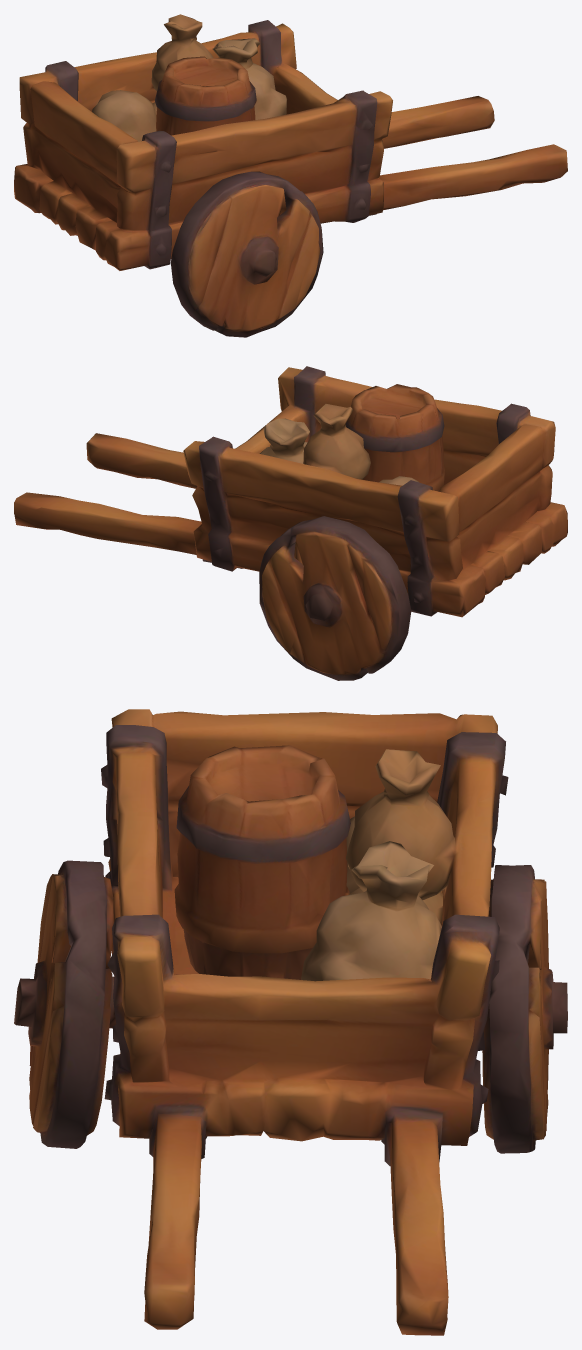
The model's file is pro_cart-BDv5Q6WR.glb.
The picture shows the model from 3 angles, top to bottom: view 1: azimuth 30°, elevation 25°; view 2: azimuth 150°, elevation 25°; view 3: azimuth 270°, elevation 25°; orthographic projection. The views are drawn at different scales.
Visible parts, largest first — view 1: tripo_node_e3841616-b8e8-435c-b0b9-70d3b0c3dfbe; view 2: tripo_node_e3841616-b8e8-435c-b0b9-70d3b0c3dfbe; view 3: tripo_node_e3841616-b8e8-435c-b0b9-70d3b0c3dfbe.
Boxes of the visible parts, x1=… form: tripo_node_e3841616-b8e8-435c-b0b9-70d3b0c3dfbe: x1=14, y1=14, x2=567, y2=337; tripo_node_e3841616-b8e8-435c-b0b9-70d3b0c3dfbe: x1=14, y1=366, x2=567, y2=680; tripo_node_e3841616-b8e8-435c-b0b9-70d3b0c3dfbe: x1=14, y1=709, x2=567, y2=1335.
Bounding box in the file's own units: 1 × 0.4864 × 0.5977.
Materials: 1 (1 with a texture image).
